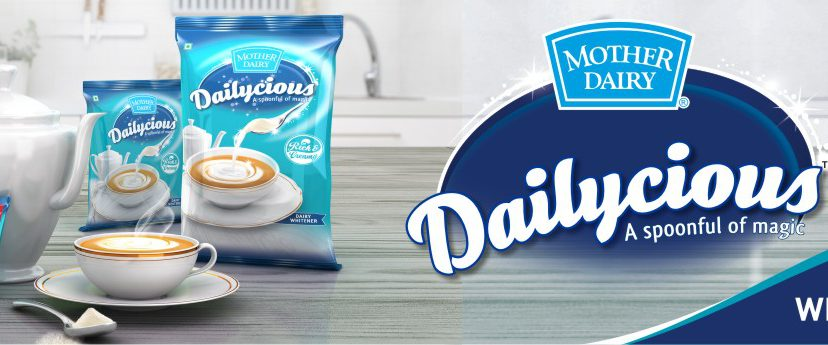Mother_Dairy: (538, 18, 698, 118), (224, 41, 285, 76)
